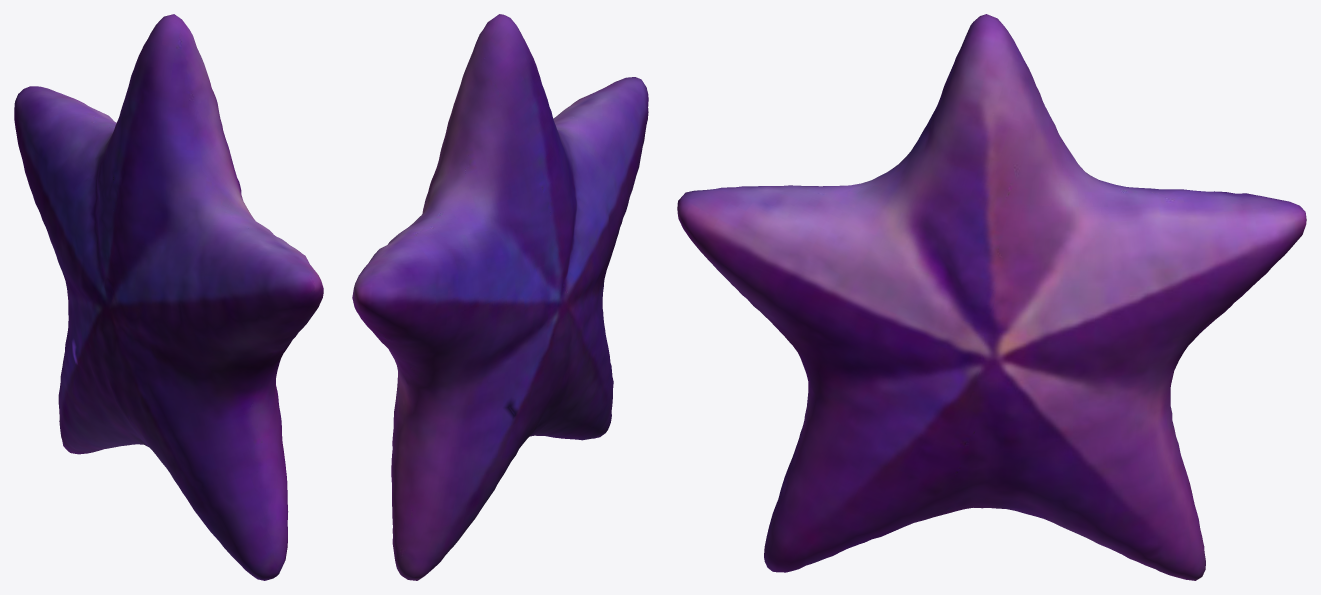
The model's file is star.fbx.
The picture shows the model from 3 angles, left to right: view 1: azimuth 30°, elevation 25°; view 2: azimuth 150°, elevation 25°; view 3: azimuth 270°, elevation 25°; orthographic projection. The views are drawn at different scales.
Parts seen in each view (by area): view 1: Mesh1; view 2: Mesh1; view 3: Mesh1.
Part boxes in pixels (<box>): Mesh1: <box>14,14,323,580</box>; Mesh1: <box>352,14,648,580</box>; Mesh1: <box>677,14,1306,580</box>.
Bounding box in the file's own units: 33.59 × 119 × 120.
1 material, 1 textured.
